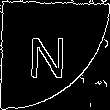N_N: (34, 29, 76, 81)
